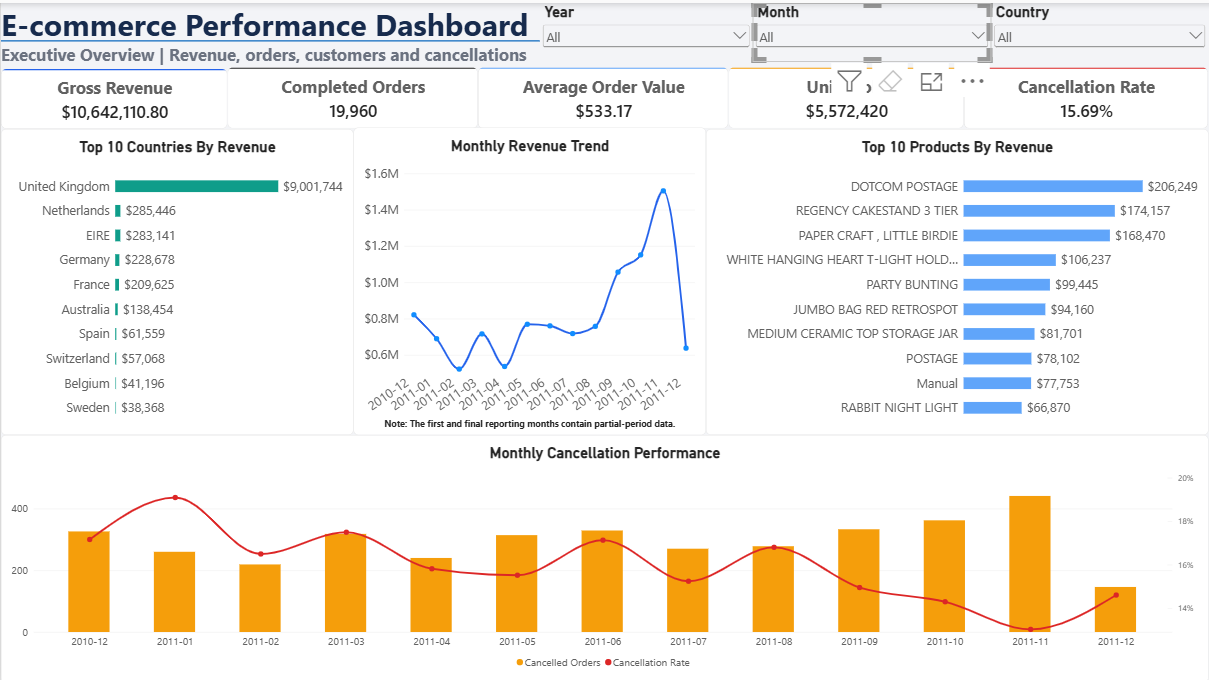

Layout of this report page (visuals, bound fields, positions):
{"tool":"powerbi","page":{"name":"Executive Summary","canvas":[1920,1080],"ordinal":0},"visuals":[{"type":"textbox","box":[0,0,856.8,102.3],"z":0},{"type":"shape","box":[0,0,856.8,120.5],"z":1},{"type":"slicer","fields":{"Values":["DimDate.Year"]},"box":[856.5,0,338.8,88.3],"z":2},{"type":"slicer","fields":{"Values":["DimDate.Month"]},"box":[1195.3,0,379.4,93.1],"z":3},{"type":"slicer","fields":{"Values":["DimCountry.country"]},"box":[1574.7,0,346,93.1],"z":4},{"type":"cardVisual","fields":{"Data":["Measures (2).Average Order Value"]},"box":[758.7,102.6,398.4,97.8],"z":6},{"type":"cardVisual","fields":{"Data":["Measures (2).Completed Orders"]},"box":[360.3,102.6,398.4,97.8],"z":7},{"type":"cardVisual","fields":{"Data":["Measures (2).Gross Revenue"]},"box":[0,105,360.3,95.4],"z":8},{"type":"cardVisual","fields":{"Data":["Measures (2).Cancellation Rate"]},"box":[1531.8,102.6,388.9,97.8],"z":9},{"type":"cardVisual","fields":{"Data":["Measures (2).Units Sold"]},"box":[1157.2,102.6,374.6,97.8],"z":10},{"type":"lineChart","title":"Monthly Revenue Trend","fields":{"Category":["DimDate.Year Month"],"Y":["Measures (2).Gross Revenue"]},"box":[560.7,198,560.7,489.1],"z":11},{"type":"clusteredBarChart","title":"Top 10 Countries By Revenue","fields":{"Category":["DimCountry.country"],"Y":["Measures (2).Gross Revenue"]},"box":[0,200.4,560.7,486.7],"z":12},{"type":"clusteredBarChart","title":"Top 10 Products By Revenue","fields":{"Category":["DimProduct.product_description"],"Y":["Measures (2).Gross Revenue"]},"box":[1121.4,200.4,799.3,486.7],"z":13},{"type":"lineClusteredColumnComboChart","title":"Monthly Cancellation Performance","fields":{"Category":["DimDate.Year Month"],"Y":["Measures (2).Cancelled Orders"],"Y2":["Measures (2).Cancellation Rate"]},"box":[0,687.1,1920.7,393.7],"z":14},{"type":"textbox","box":[560.7,658.5,560.7,28.6],"z":15}]}

Visuals, with their boxes in screenshot pixels (x1, y1, x2, y2), scaled from the page's 1920x1080 canvas onto the 1209x680 screenshot:
textbox: Rect(0, 0, 540, 64)
shape: Rect(0, 0, 540, 76)
slicer - DimDate.Year: Rect(539, 0, 753, 56)
slicer - DimDate.Month: Rect(753, 0, 992, 59)
slicer - DimCountry.country: Rect(992, 0, 1208, 59)
cardVisual - Measures (2).Average Order Value: Rect(478, 65, 729, 126)
cardVisual - Measures (2).Completed Orders: Rect(227, 65, 478, 126)
cardVisual - Measures (2).Gross Revenue: Rect(0, 66, 227, 126)
cardVisual - Measures (2).Cancellation Rate: Rect(965, 65, 1208, 126)
cardVisual - Measures (2).Units Sold: Rect(729, 65, 965, 126)
"Monthly Revenue Trend" lineChart: Rect(353, 125, 706, 433)
"Top 10 Countries By Revenue" clusteredBarChart: Rect(0, 126, 353, 433)
"Top 10 Products By Revenue" clusteredBarChart: Rect(706, 126, 1208, 433)
"Monthly Cancellation Performance" lineClusteredColumnComboChart: Rect(0, 433, 1208, 679)
textbox: Rect(353, 415, 706, 433)
